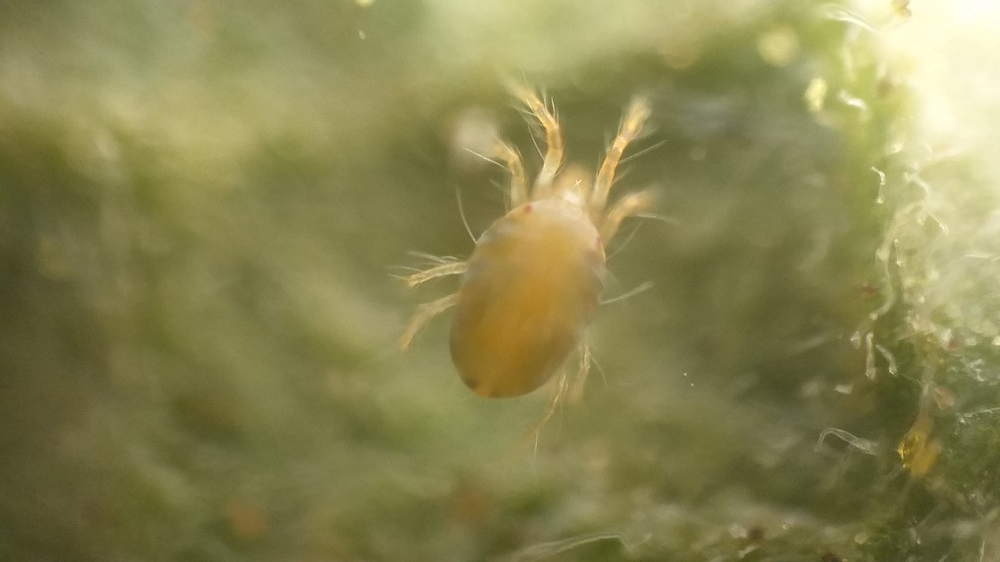Aracnido Rojo: (304, 115, 593, 493)
